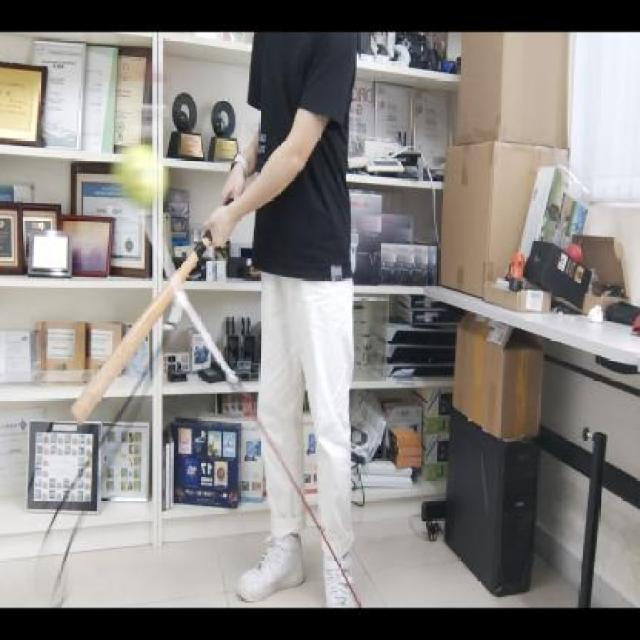baseball: (112, 142, 170, 210)
